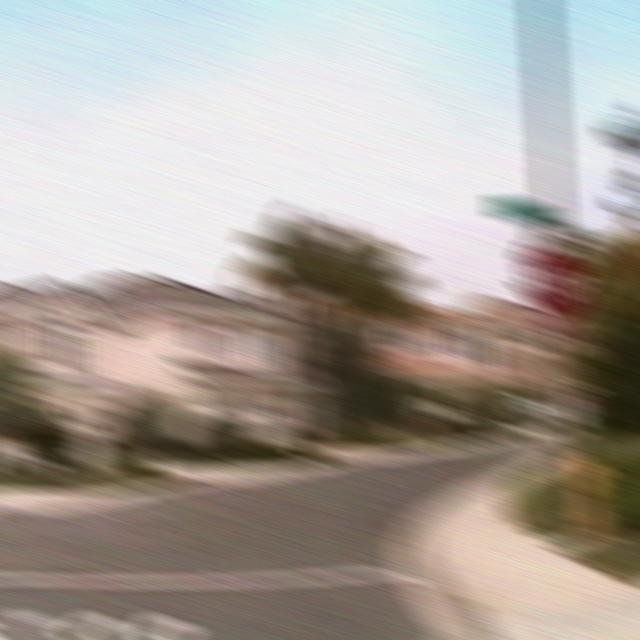stop_sign: (524, 245, 591, 323)
